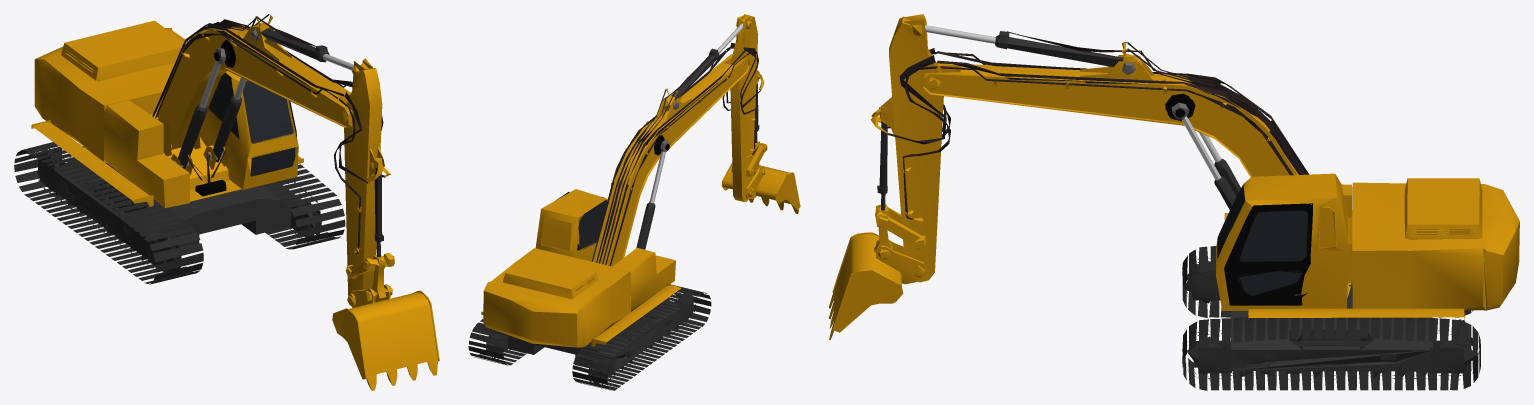
File: plant.glb
3 views of the same model, side by side, from view 1: azimuth 30°, elevation 25°; view 2: azimuth 150°, elevation 25°; view 3: azimuth 270°, elevation 25° (orthographic). The views are drawn at different scales.
Visible parts, largest first — view 1: excavator; view 2: excavator; view 3: excavator.
Part boxes in pixels (x1=…): excavator: x1=14, y1=14, x2=439, y2=390; excavator: x1=468, y1=14, x2=800, y2=390; excavator: x1=829, y1=14, x2=1519, y2=390.
Size of the model in its own units: 3.09 by 4.7 by 9.24.
